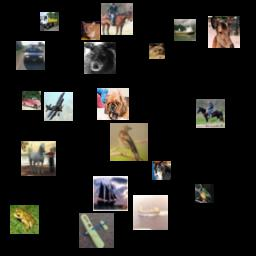airplane: (79, 213, 114, 248), (44, 92, 73, 121)
automobile: (16, 41, 45, 70)
bird: (110, 123, 148, 161), (195, 184, 214, 203)
cat: (81, 21, 100, 40), (149, 43, 165, 59)
deer: (84, 42, 116, 74), (208, 16, 240, 48)
dog: (97, 88, 129, 120), (152, 161, 171, 180)
frog: (10, 205, 39, 234)
ship: (133, 195, 168, 230), (93, 176, 128, 211), (174, 19, 196, 41)
truck: (40, 12, 59, 31), (22, 91, 41, 110)
